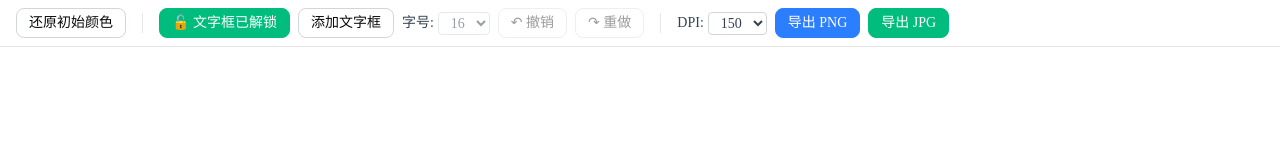
TopBar export › surfaces server errors via a small status pill
The width and height of the screenshot is (1280, 160).
What coordinates should you click on to do the following:
click the button with test id "export-png-button"
I would click on:
 (818, 23)
Its box is [775,8,860,38].
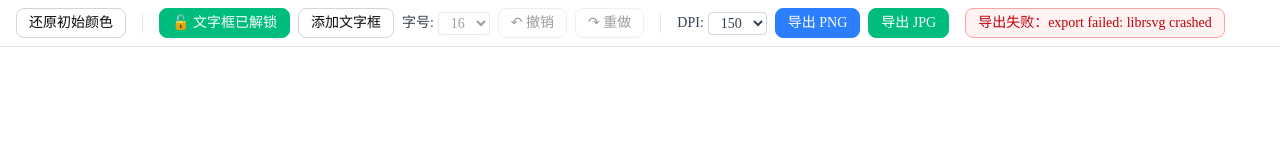
Expected: the message "导出失败：export failed: librsvg crashed" is shown, [965,8,1225,38]
Expected: the message with test id "export-error" shows "librsvg crashed", [1048,15,1212,30]
